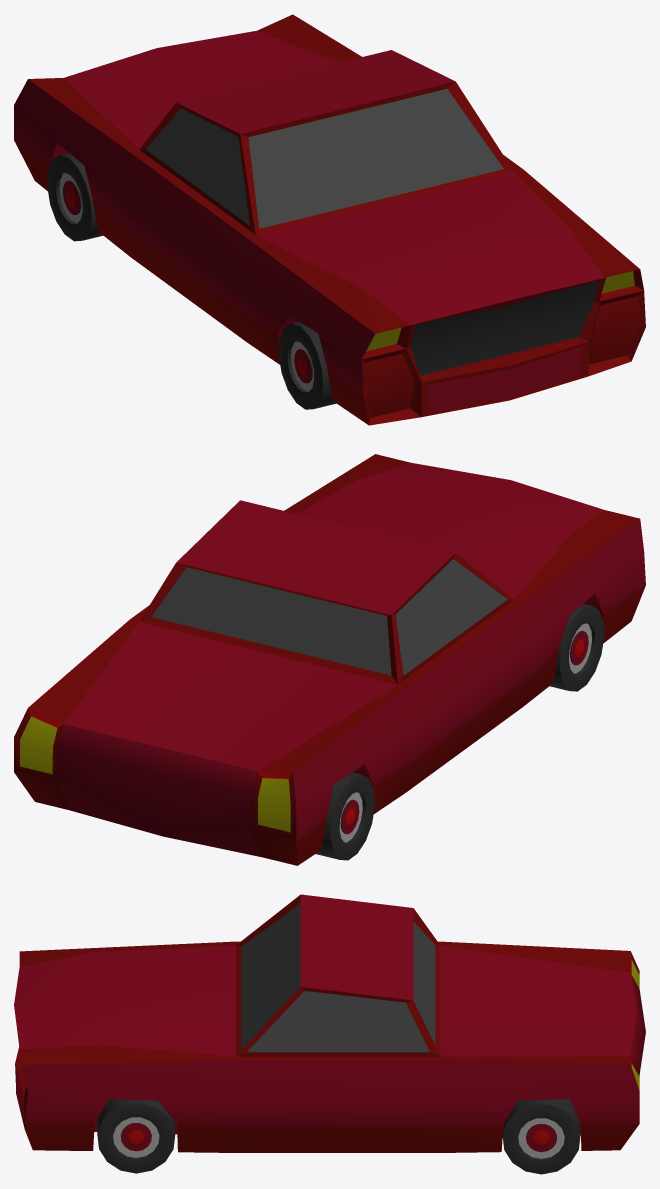
Rendered from car1.fbx.
3 views of the same model, one above another, from view 1: azimuth 30°, elevation 25°; view 2: azimuth 150°, elevation 25°; view 3: azimuth 270°, elevation 25° (orthographic). The views are drawn at different scales.
Parts seen in each view (by area): view 1: pCylinder5; view 2: pCylinder5; view 3: pCylinder5.
Boxes of the visible parts, box(x1,y1,x2,y2) form: pCylinder5: box(14, 14, 645, 425); pCylinder5: box(14, 454, 645, 865); pCylinder5: box(14, 894, 645, 1174).
Size of the model in its own units: 2.93 by 1.86 by 6.17.
